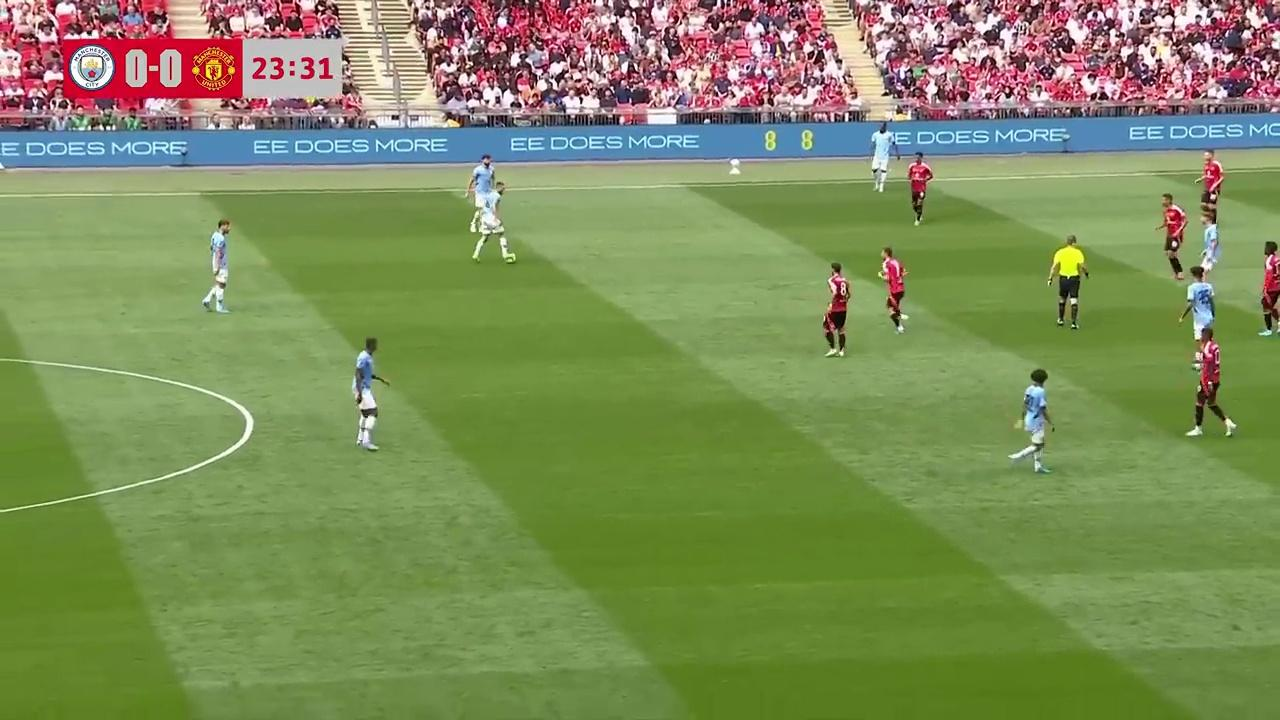player: (1185, 329, 1236, 439), (1009, 371, 1053, 474), (352, 337, 390, 449), (471, 176, 516, 263), (1177, 268, 1216, 355), (1154, 194, 1186, 281), (202, 219, 231, 313), (823, 263, 851, 357), (878, 246, 907, 332), (1195, 149, 1224, 224), (1258, 243, 1279, 337), (907, 153, 933, 225), (869, 128, 896, 192), (1192, 218, 1221, 274), (464, 153, 494, 200)
referee: (1047, 234, 1089, 329)
